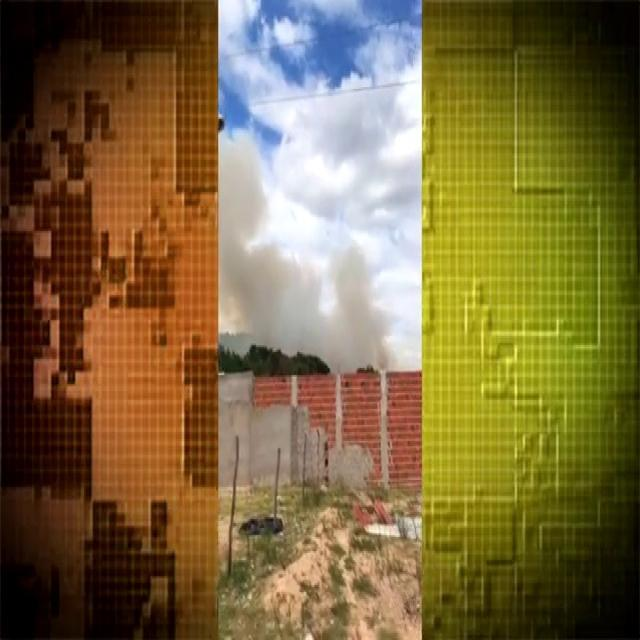Smoke: (221, 119, 401, 382)
